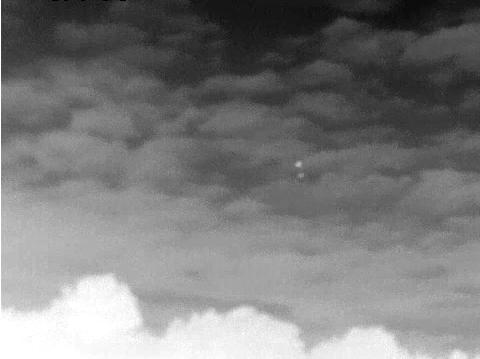dim target: (291, 159, 304, 168)
